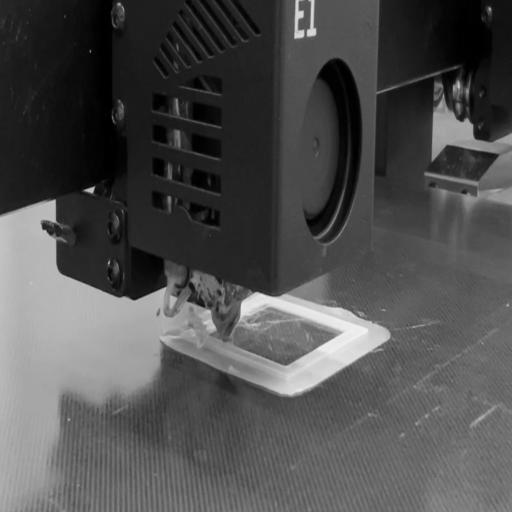spaghetti_and_stringing: (179, 302, 301, 348)
